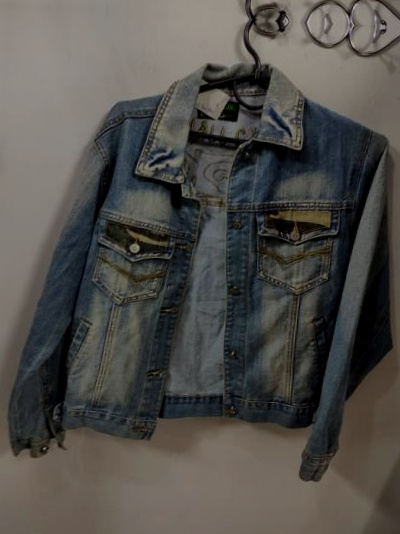Blazer: (0, 86, 400, 489)
